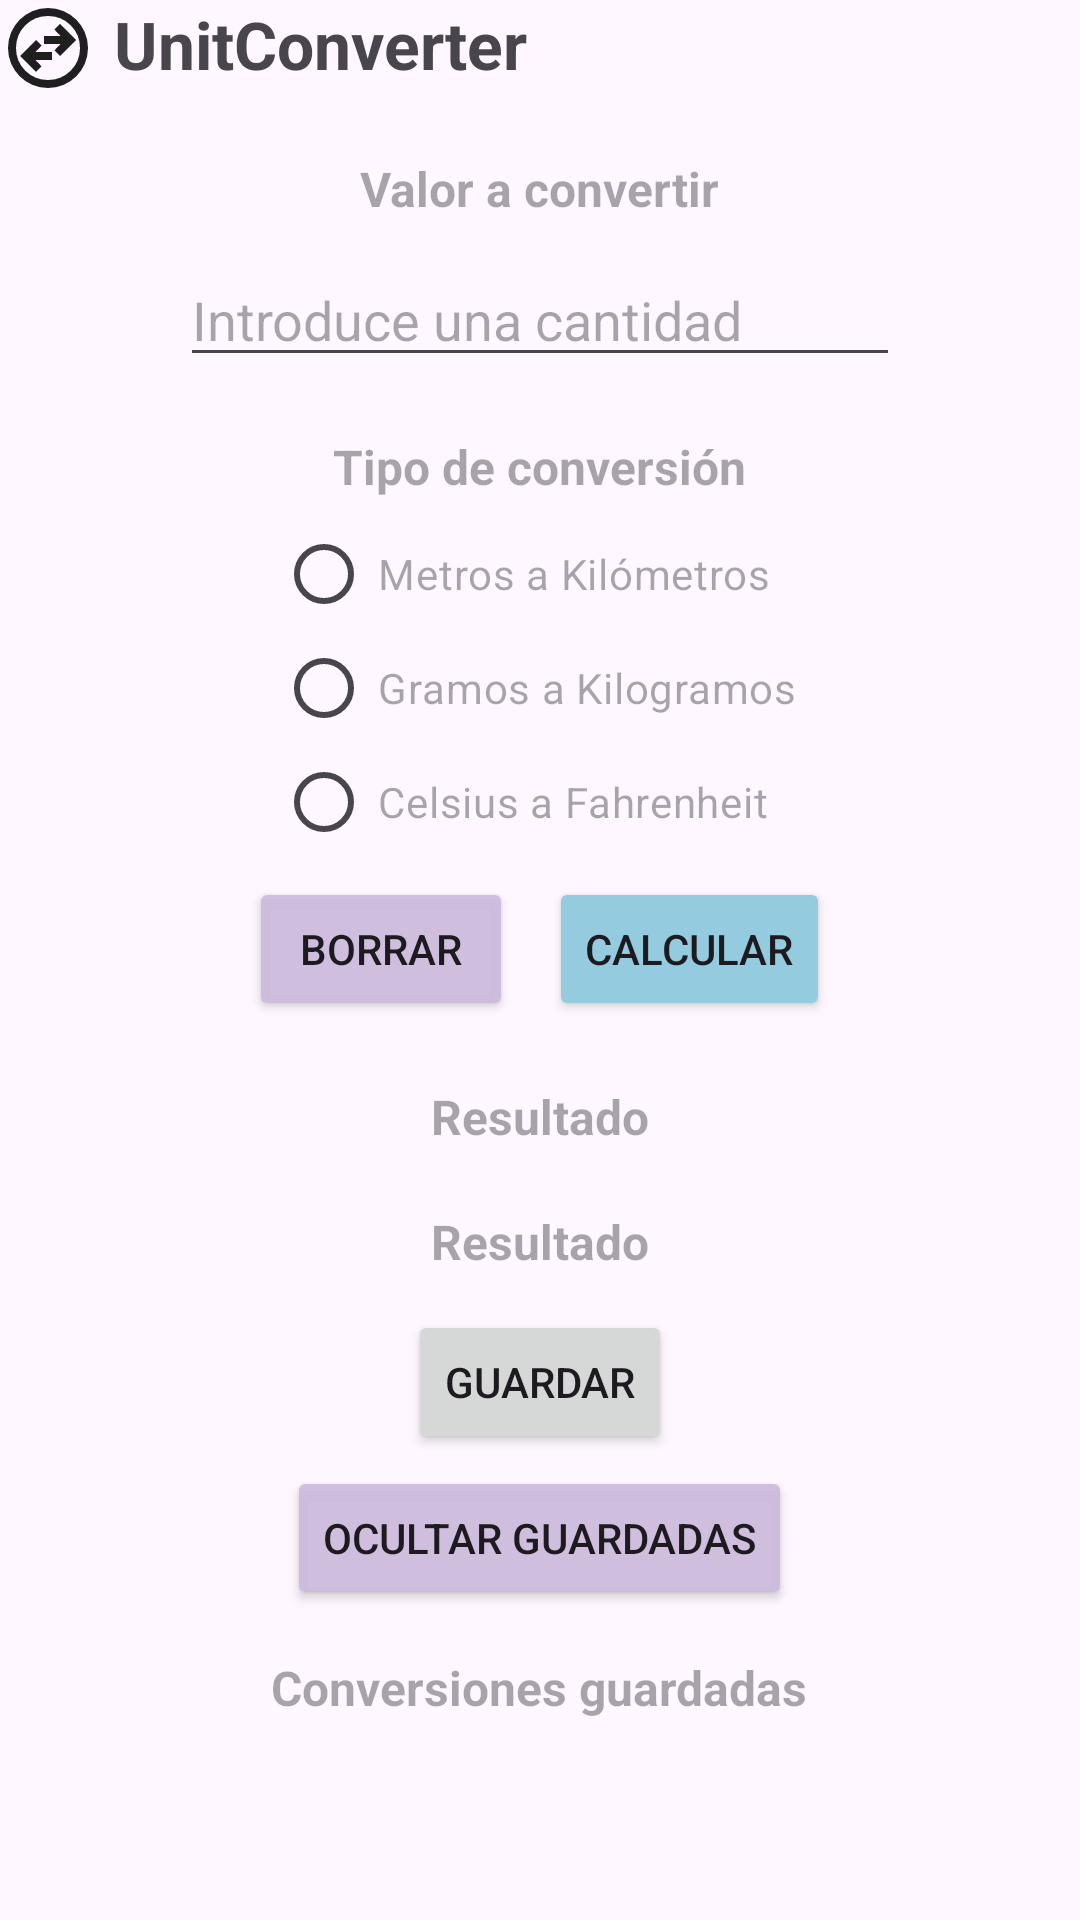

Where to tap for icons on this 1080×1920 app screen, as point (x, y):
swap horizontal circle: point (48, 48)
